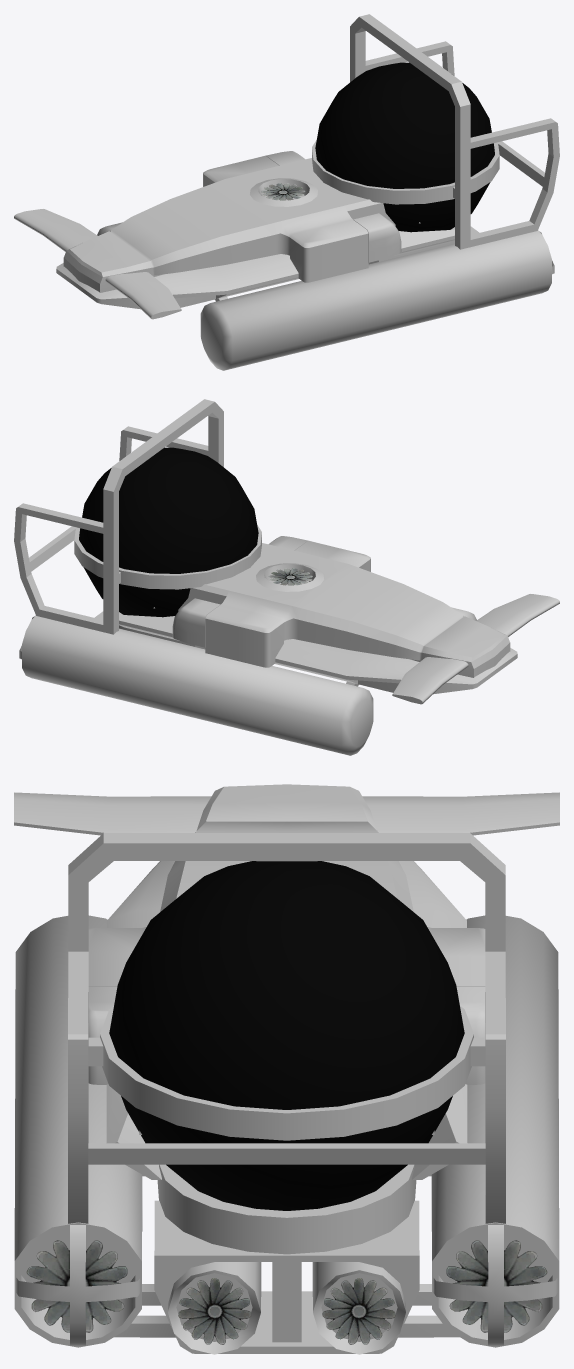
Rendered from MiniSub.fbx.
The picture shows the model from 3 angles, top to bottom: view 1: azimuth 30°, elevation 25°; view 2: azimuth 150°, elevation 25°; view 3: azimuth 270°, elevation 25°; orthographic projection. The views are drawn at different scales.
Visible parts, largest first — view 1: MiniSub; view 2: MiniSub; view 3: MiniSub.
Boxes of the visible parts, x1,y1,x2,y2 form: MiniSub: (14,14,559,370); MiniSub: (14,399,559,755); MiniSub: (14,784,559,1354).
Size of the model in its own units: 5.78 by 3.01 by 3.21.
